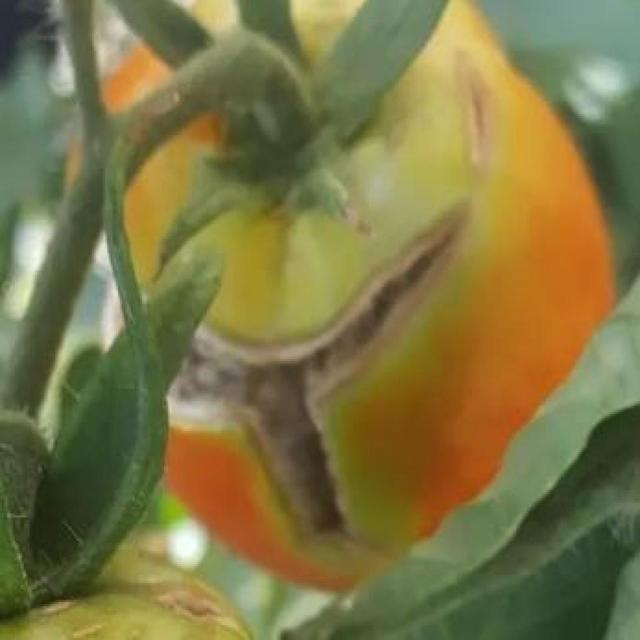Cracking Fruit: (51, 78, 317, 261)
